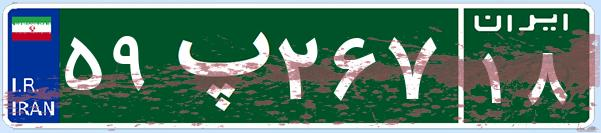1: (475, 38, 525, 113)
2: (273, 28, 330, 110)
5: (57, 26, 110, 107)
6: (330, 28, 385, 110)
7: (385, 28, 445, 110)
8: (525, 38, 570, 115)
9: (110, 28, 158, 105)
پ: (158, 15, 273, 115)
